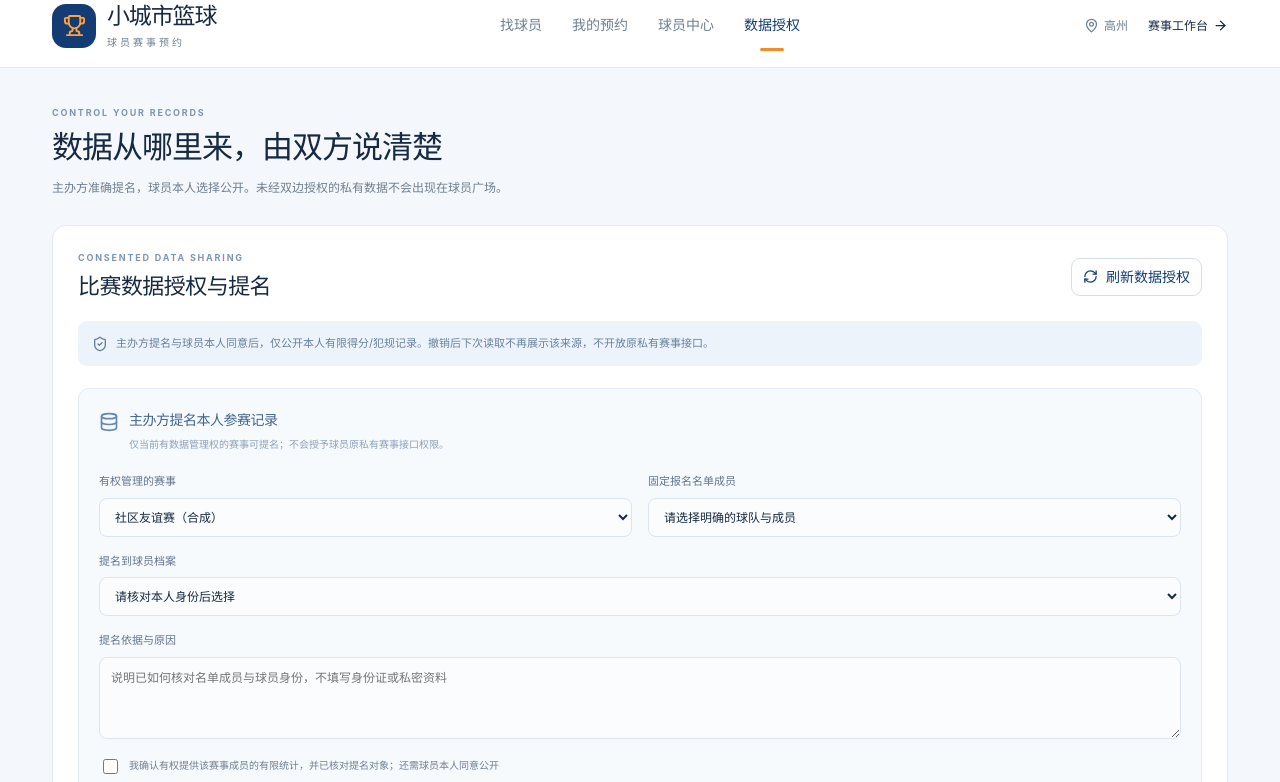
球员数据与同价比较 › 主办方仅用授权赛事固定名单提名，提交本身不公开记录
Select "石鼓青锋（示例） · 陈宇航 · 7号" in the dropdown labelled "固定报名名单成员" at [914, 517], box [648, 498, 1181, 536]
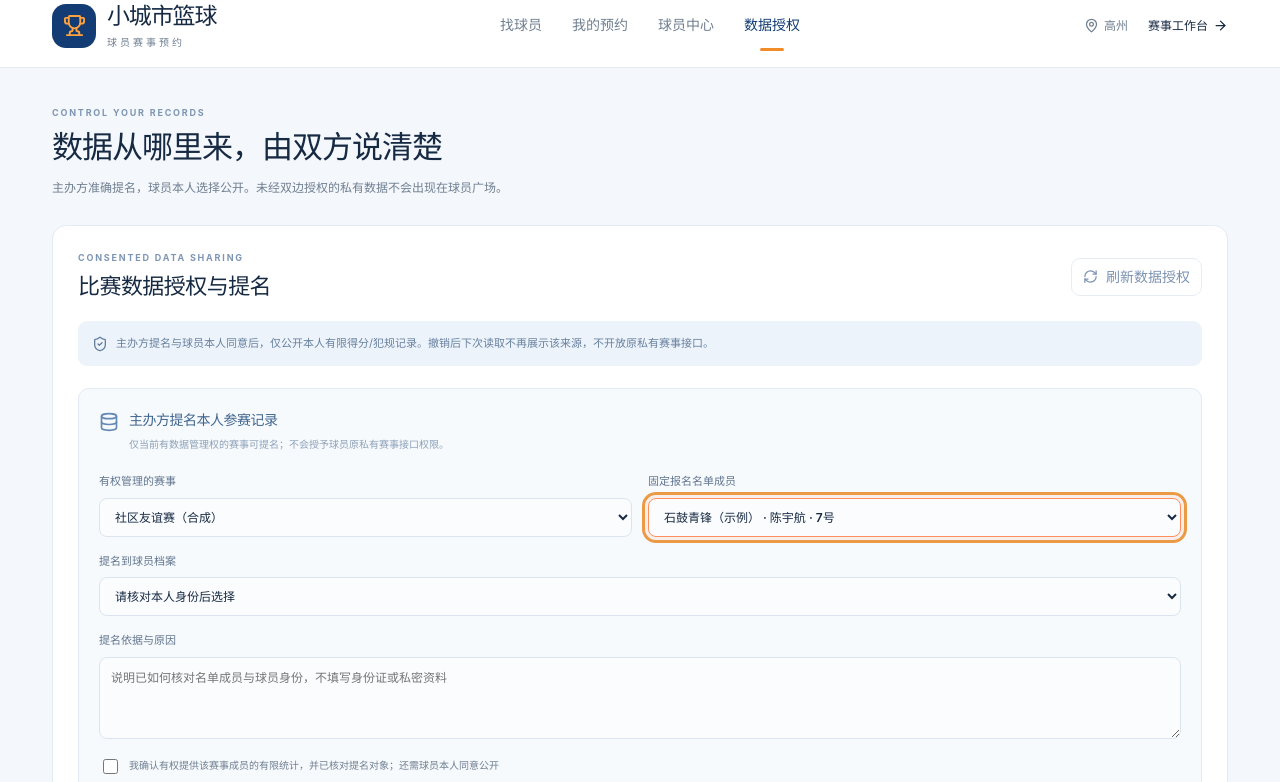
Select "陈宇航 · 控球后卫 · 高州 · 石鼓" in the dropdown labelled "提名到球员档案" at [640, 597], box [99, 577, 1181, 616]
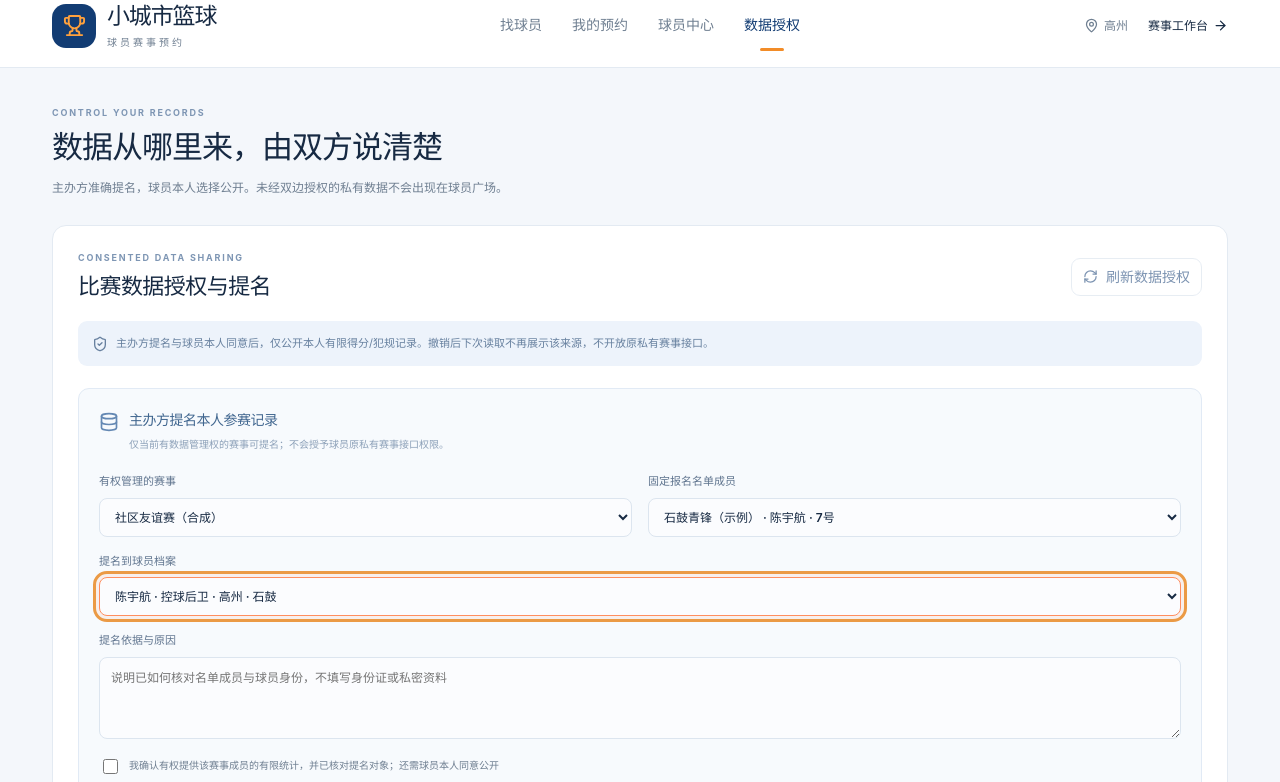
Type "已核对本人固定报名名单" into the text box labelled "提名依据与原因" at [640, 698], box [99, 657, 1181, 739]
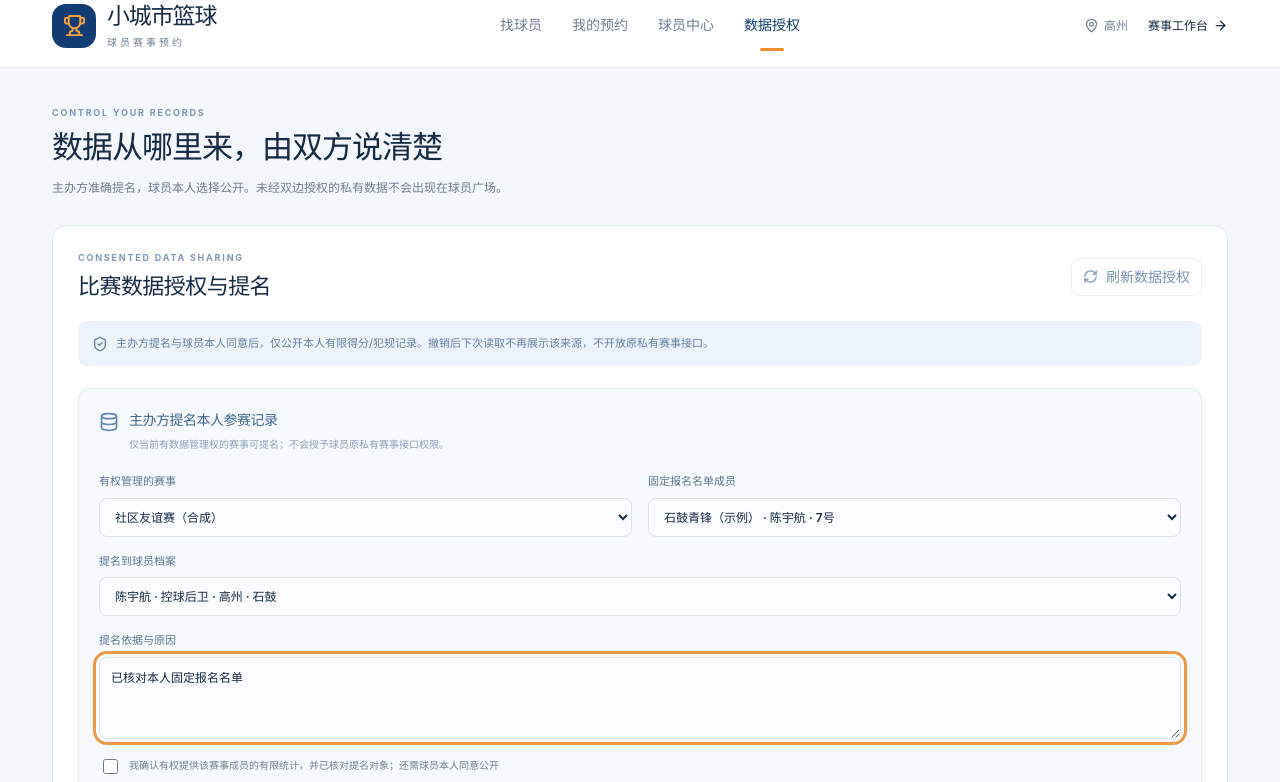
Click the checkbox labelled "我确认有权提供该赛事成员的有限统计，并已核对提名对象；还需球员本人同意公开" at [110, 766], box [103, 759, 118, 774]
(page scrolled)
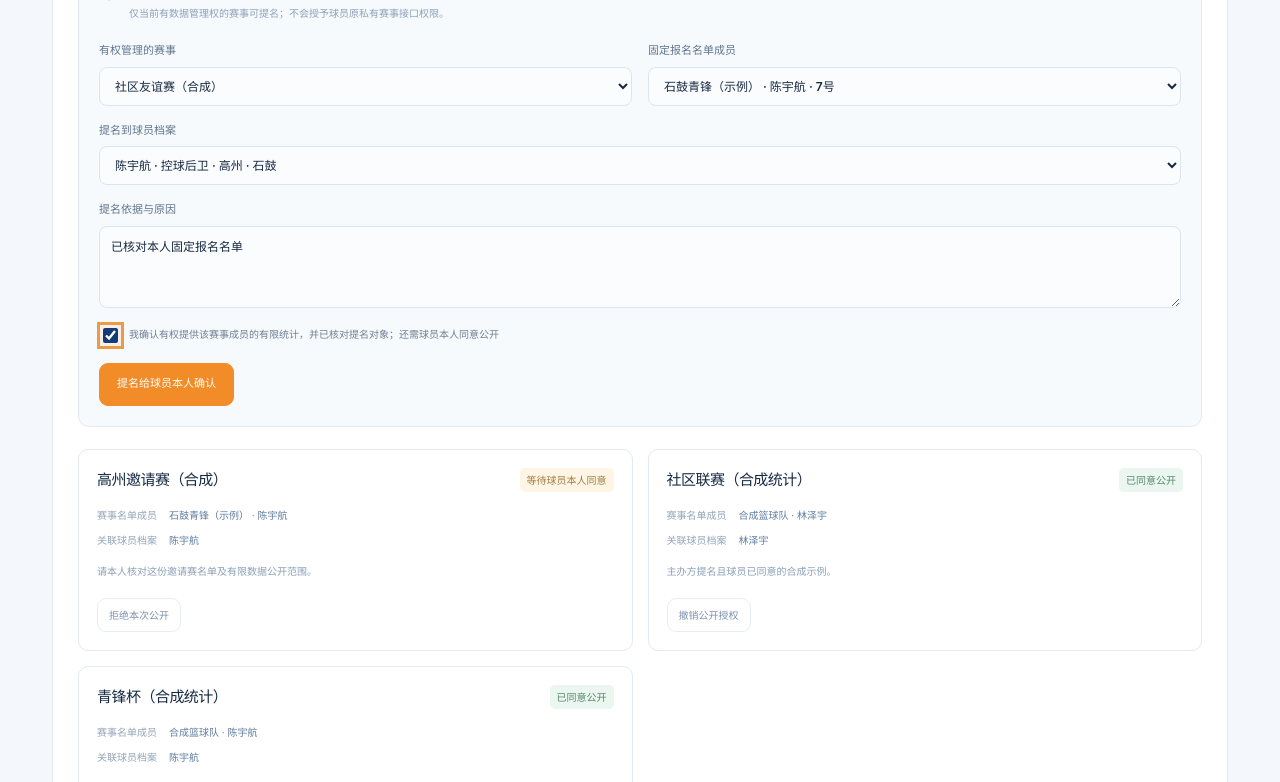
Click the button "提名给球员本人确认" at [166, 384], box [99, 363, 234, 406]
(page scrolled)
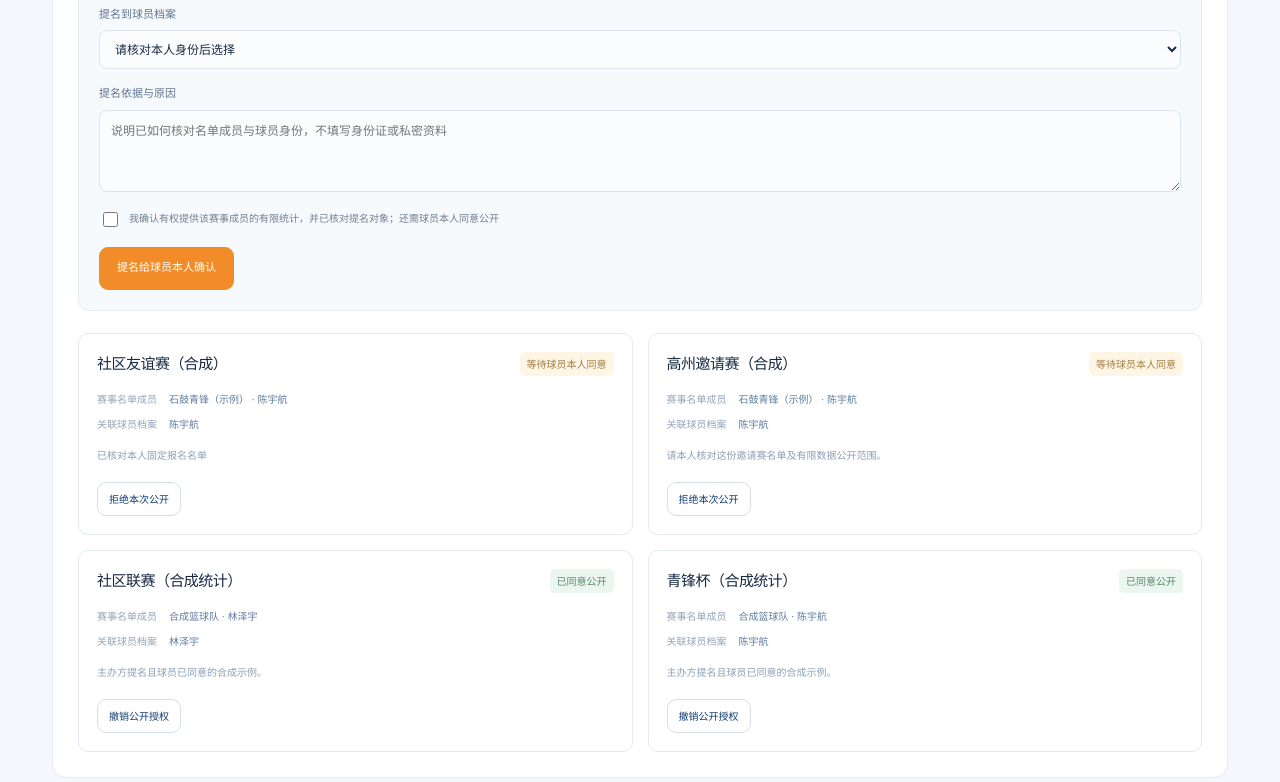
Now the heading "社区友谊赛（合成）" is shown, box [97, 352, 227, 376]
